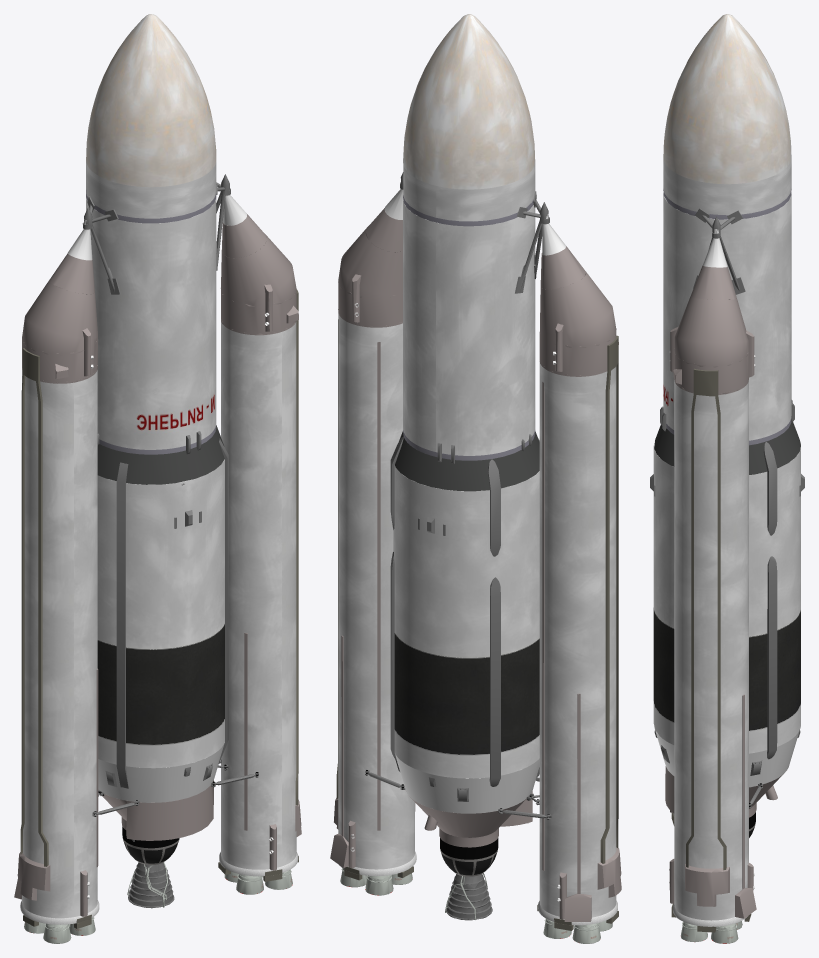
Rendered from energia-m.glb.
The picture shows the model from 3 angles, left to right: view 1: azimuth 30°, elevation 25°; view 2: azimuth 150°, elevation 25°; view 3: azimuth 270°, elevation 25°; orthographic projection. The views are drawn at different scales.
Parts seen in each view (by area): view 1: 3D Поверхность1340, element 336, 3D Поверхность08, 3D Поверхность14, 3D Поверхность01, 3D Поверхность708, 3D Поверхность4931; view 2: 3D Поверхность1340, element 336, 3D Поверхность08, 3D Поверхность14, 3D Поверхность01, 3D Поверхность708, 3D Поверхность4931; view 3: 3D Поверхность1340, element 336, 3D Поверхность08, 3D Поверхность14, 3D Поверхность01, 3D Поверхность708, 3D Поверхность4931.
Boxes of the visible parts, left/top/right/bottom form: 3D Поверхность1340: left=20, top=322, right=298, bottom=924; element 336: left=14, top=174, right=301, bottom=935; 3D Поверхность08: left=97, top=459, right=224, bottom=768; 3D Поверхность14: left=86, top=197, right=216, bottom=449; 3D Поверхность01: left=86, top=14, right=216, bottom=187; 3D Поверхность708: left=86, top=161, right=216, bottom=218; 3D Поверхность4931: left=24, top=870, right=292, bottom=943; 3D Поверхность1340: left=338, top=313, right=617, bottom=925; element 336: left=330, top=172, right=621, bottom=938; 3D Поверхность08: left=393, top=465, right=539, bottom=778; 3D Поверхность14: left=403, top=200, right=535, bottom=455; 3D Поверхность01: left=403, top=14, right=535, bottom=189; 3D Поверхность708: left=403, top=163, right=535, bottom=221; 3D Поверхность4931: left=340, top=868, right=612, bottom=943; 3D Поверхность1340: left=673, top=380, right=748, bottom=926; element 336: left=650, top=189, right=804, bottom=943; 3D Поверхность08: left=653, top=441, right=800, bottom=753; 3D Поверхность14: left=663, top=192, right=791, bottom=440; 3D Поверхность01: left=663, top=14, right=791, bottom=184; 3D Поверхность708: left=663, top=158, right=791, bottom=215; 3D Поверхность4931: left=680, top=921, right=742, bottom=943.
Size of the model in its own units: 16.33 by 50.25 by 8.12.
11 materials, 11 textured.
